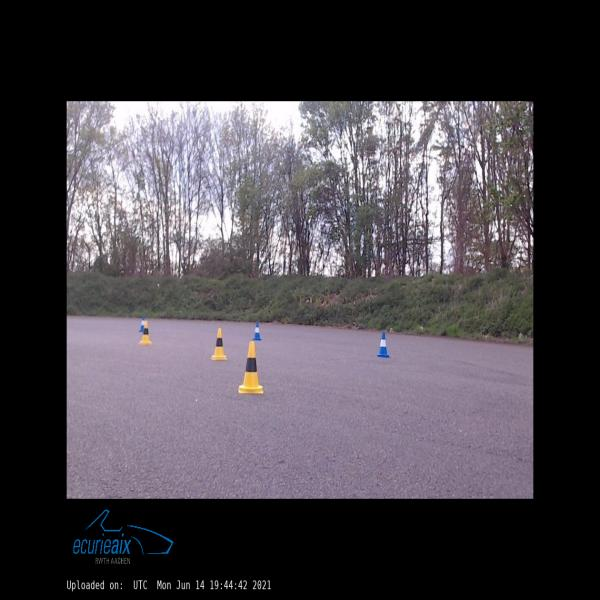blue_cone: (377, 332, 389, 358), (253, 322, 261, 340), (139, 317, 144, 332)
yellow_cone: (238, 341, 264, 394), (212, 327, 227, 360), (139, 320, 152, 344)
